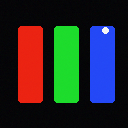0 point: (102, 27, 108, 33)
